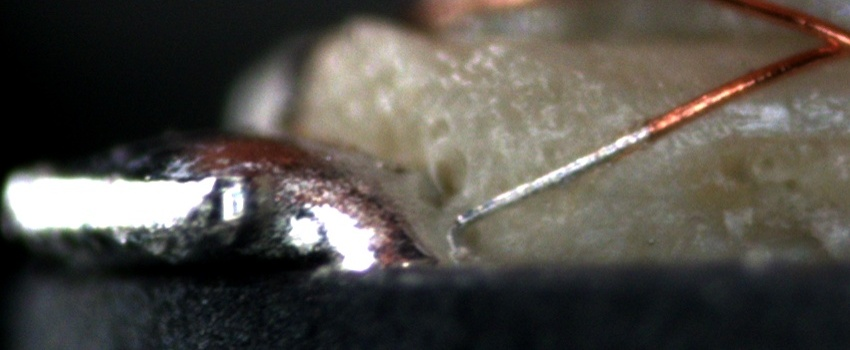CL: (795, 10, 850, 64)
DL: (511, 83, 850, 147)
TS: (451, 121, 652, 232)
